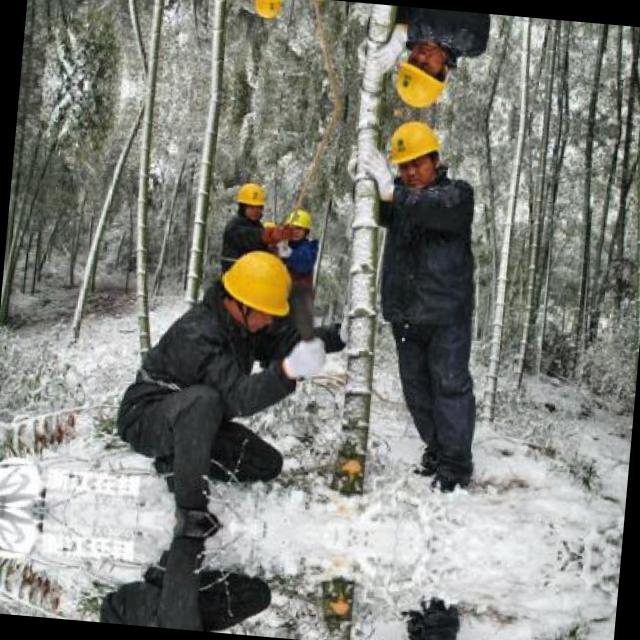helmet: (212, 243, 295, 336), (387, 36, 453, 116), (381, 112, 446, 192), (230, 178, 268, 218), (282, 204, 312, 240), (247, 0, 285, 23)
